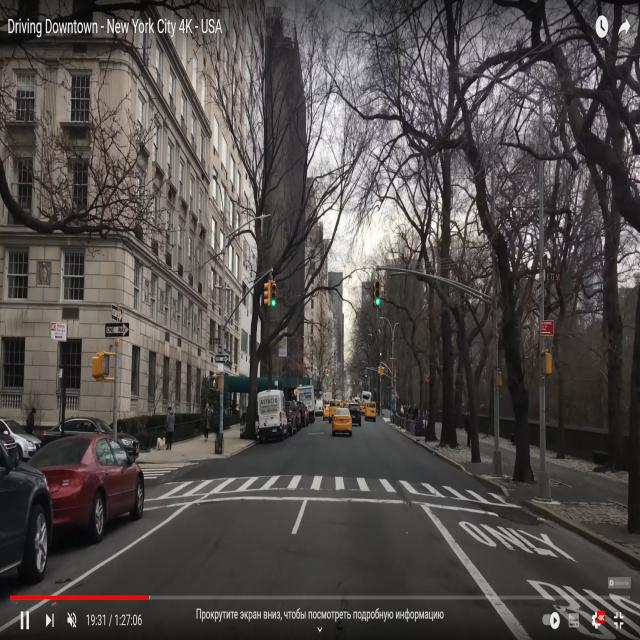Crosswalk: (156, 469, 518, 505)
